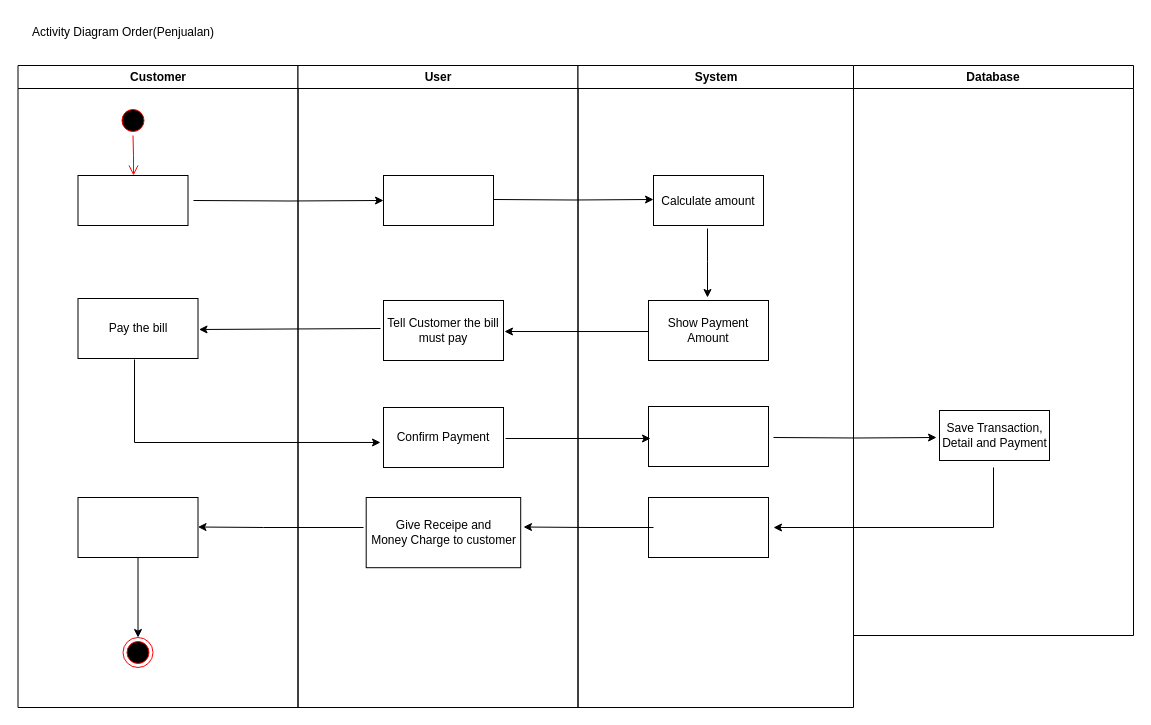
Image size: 1151x725. Some labels were removed from this diagram. Here are the shapes that lost their labels. From the top down, the centre of each, then its label:
At [132,200]: "Order Product".
At [438,200]: "Select Product For Customer Order".
At [708,436]: "Calculate Payment and Change Money".
At [137,527]: "Receive the receipe and money change".
At [708,527]: "Create Receipe".
